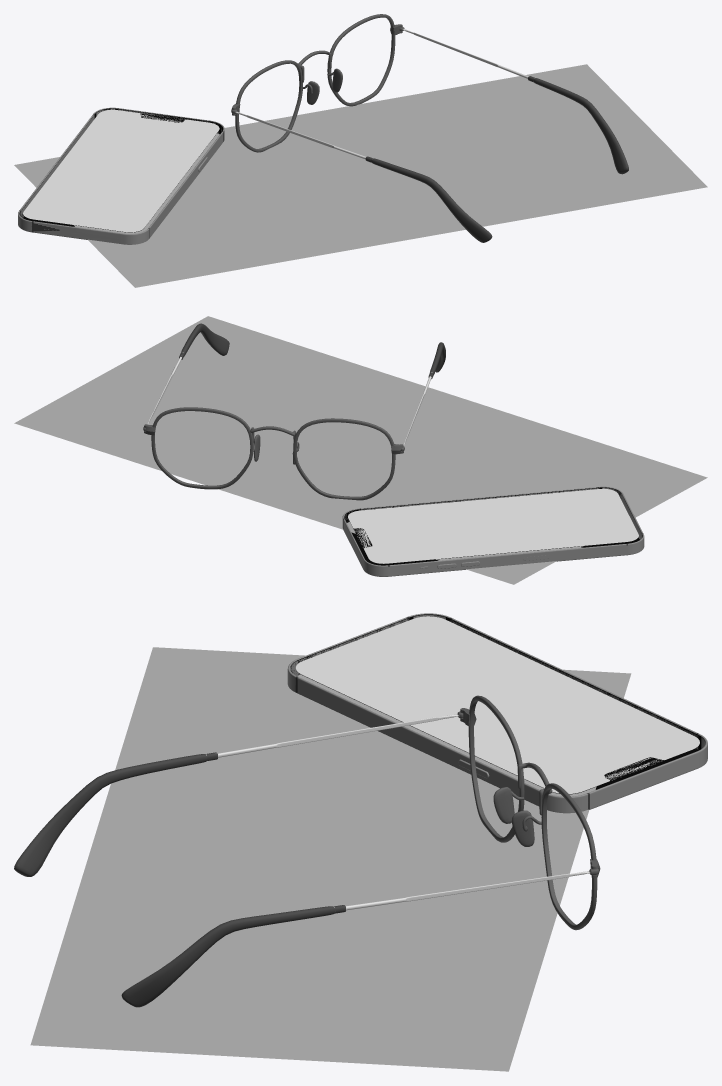
The model's file is bedsidetable_item.fbx.
The picture shows the model from 3 angles, top to bottom: view 1: azimuth 30°, elevation 25°; view 2: azimuth 150°, elevation 25°; view 3: azimuth 270°, elevation 25°; orthographic projection. The views are drawn at different scales.
Visible parts, largest first — view 1: Plane, Body.001, Plane.001, Frame, Body; view 2: Plane, Body.001, Frame, Plane.001, Body; view 3: Plane, Body.001, Plane.001, Frame, Body.
Part boxes in pixels (left/top/right/bottom): Plane: left=14, top=64, right=707, bottom=287; Body.001: left=23, top=109, right=219, bottom=232; Plane.001: left=231, top=14, right=628, bottom=242; Frame: left=18, top=107, right=224, bottom=244; Body: left=19, top=108, right=223, bottom=232; Plane: left=14, top=316, right=707, bottom=584; Body.001: left=348, top=488, right=638, bottom=563; Frame: left=342, top=486, right=644, bottom=576; Plane.001: left=143, top=323, right=445, bottom=500; Body: left=344, top=487, right=642, bottom=565; Plane: left=30, top=647, right=631, bottom=1071; Body.001: left=295, top=616, right=699, bottom=793; Plane.001: left=14, top=695, right=600, bottom=1007; Frame: left=287, top=613, right=707, bottom=813; Body: left=290, top=614, right=704, bottom=794.
Size of the model in its own units: 89.37 by 11.65 by 59.19.
Materials: 9 (6 with a texture image).
